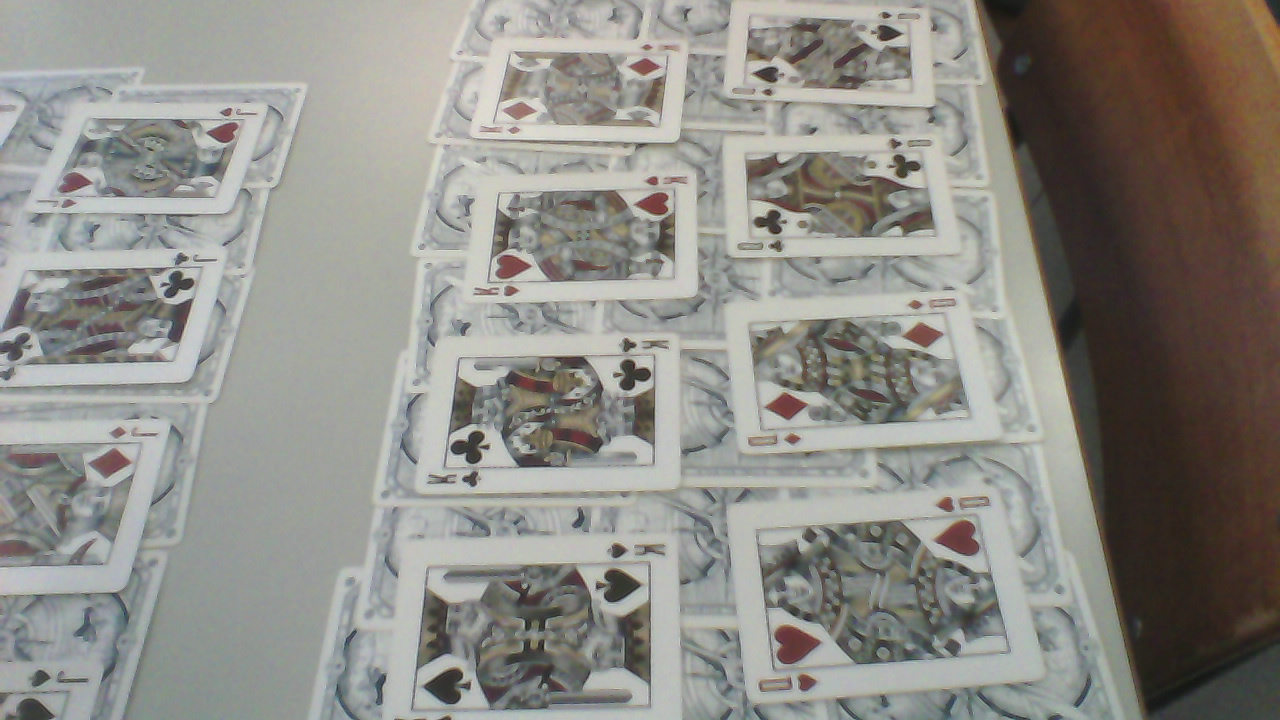jack_hearts: (30, 103, 270, 227)
king_clubs: (418, 337, 683, 497)
king_diamonds: (475, 43, 691, 150)
king_hearts: (468, 179, 700, 305)
king_spades: (389, 536, 688, 720)
queen_clubs: (722, 138, 960, 264), (726, 8, 944, 112)
queen_diamonds: (739, 295, 1006, 467)
queen_hearts: (732, 490, 1049, 707)
